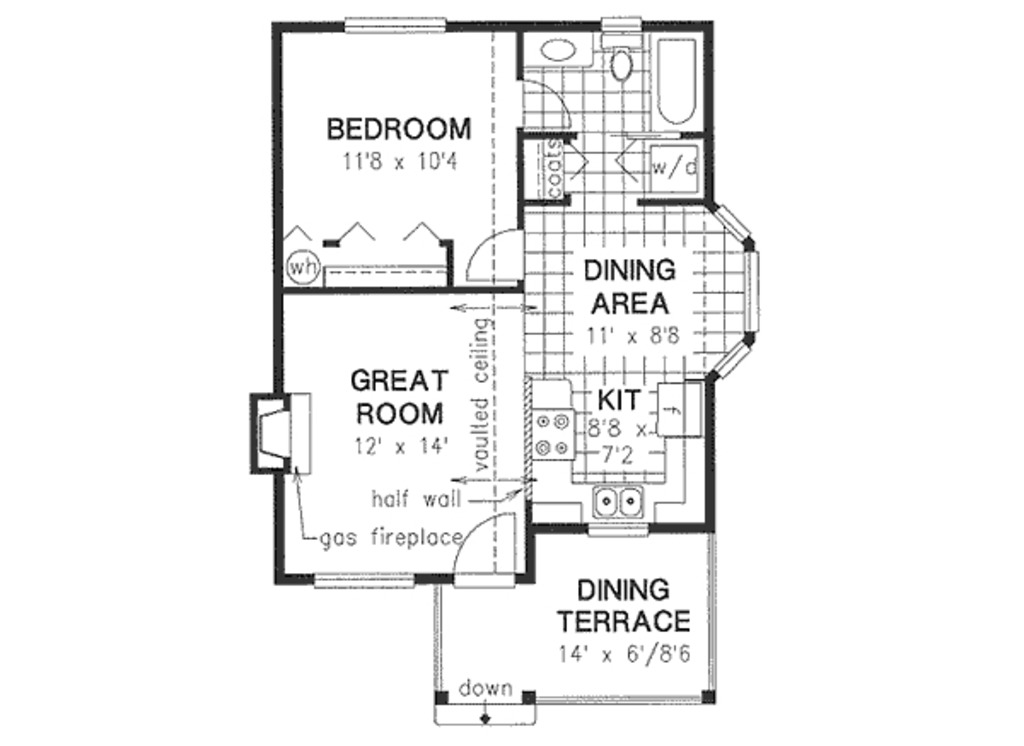door: (454, 506, 526, 601), (467, 223, 536, 285), (520, 76, 582, 131)
large_sink: (596, 27, 650, 86)
small_sink: (512, 25, 600, 74)
tub: (643, 26, 701, 132)
twin_sink: (585, 476, 654, 533)
window: (733, 251, 767, 338), (313, 566, 420, 593), (342, 12, 449, 38), (708, 336, 756, 390), (715, 198, 757, 243)
